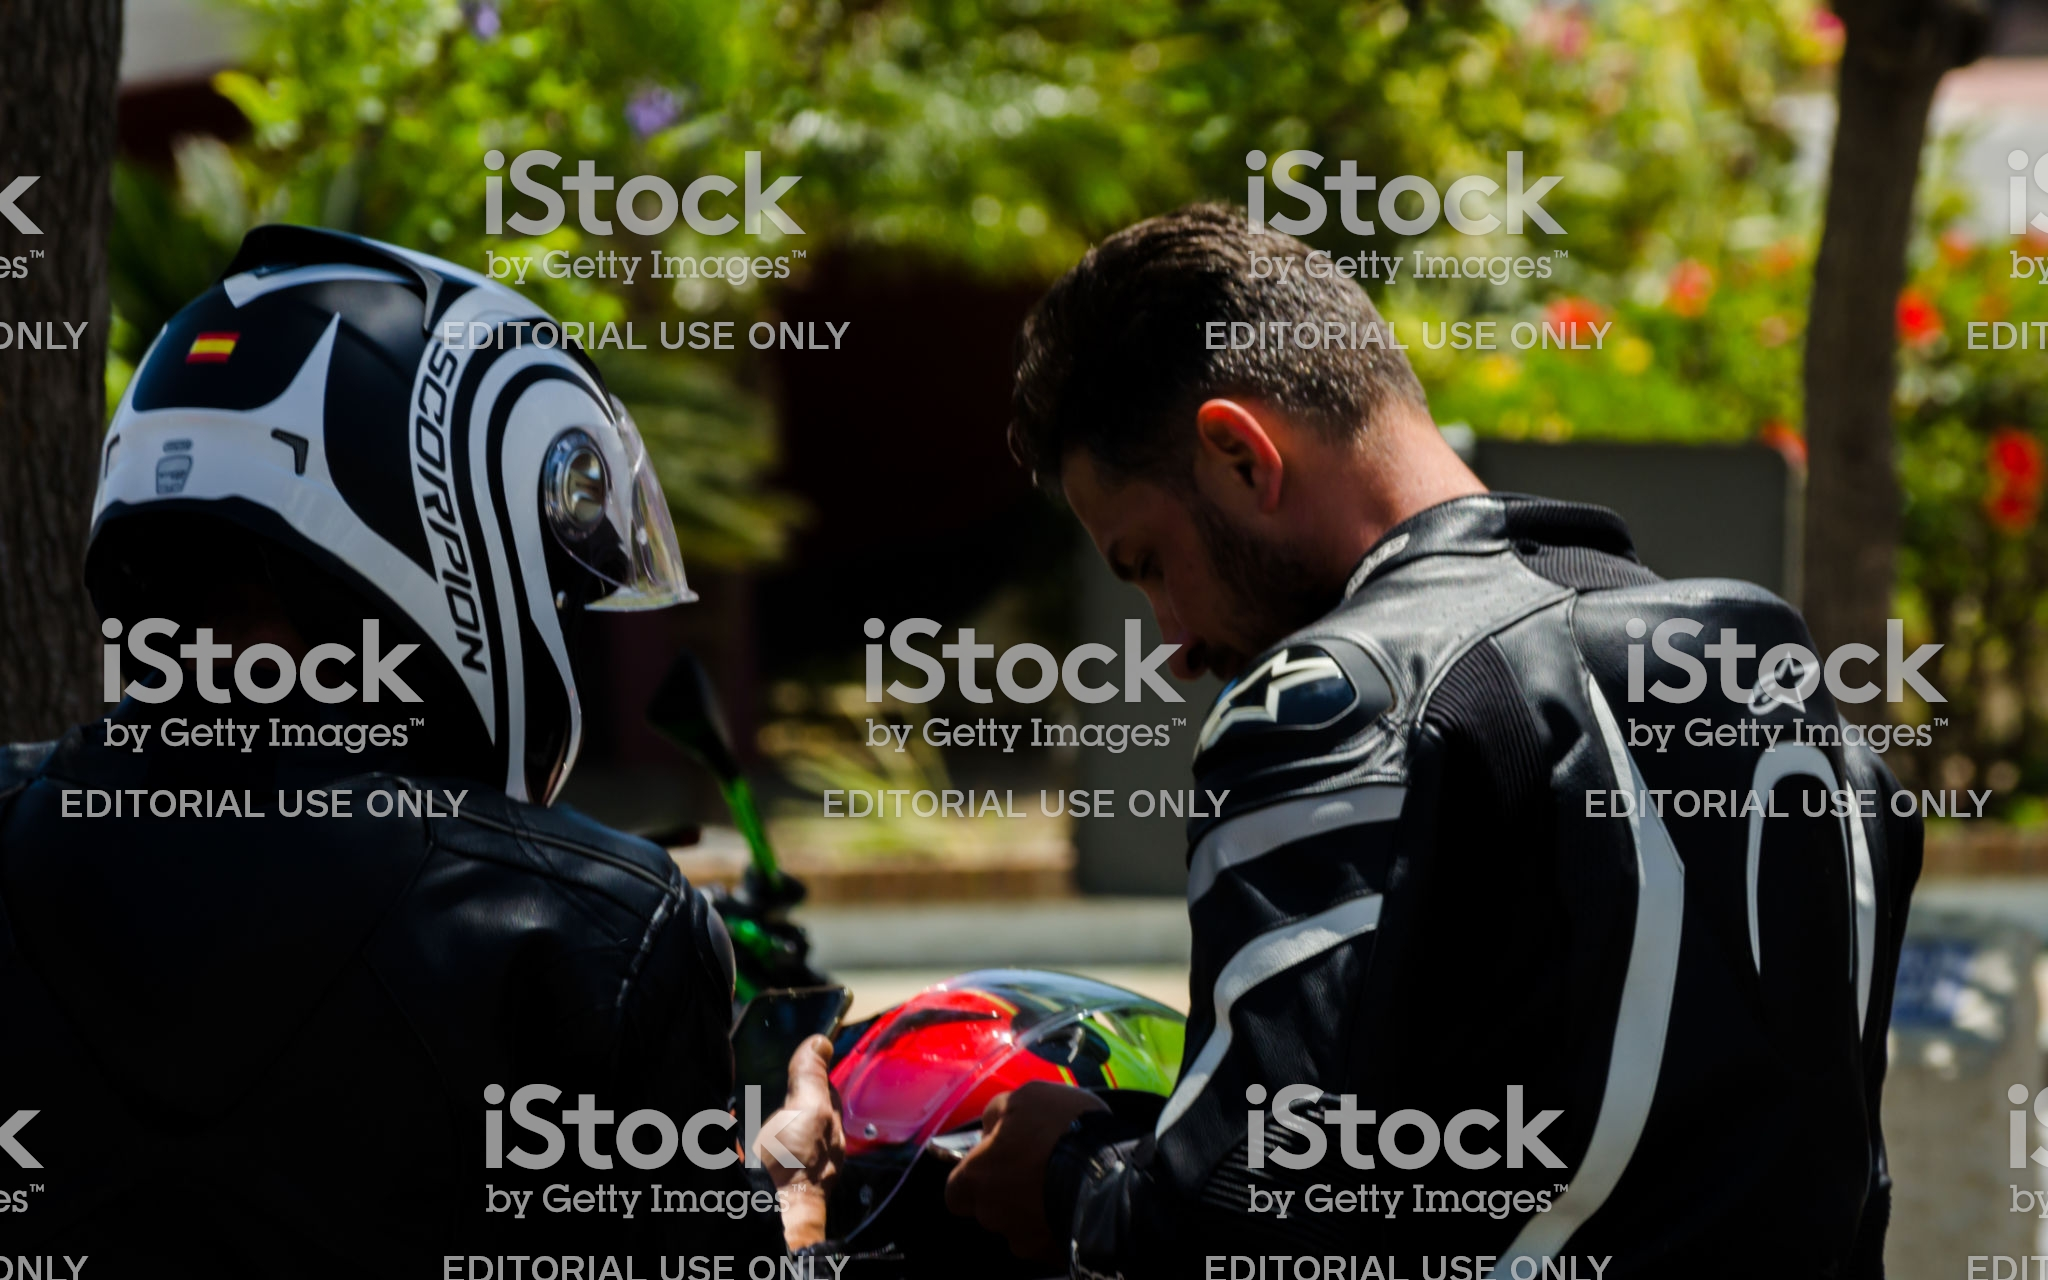helmet: (65, 189, 703, 836)
